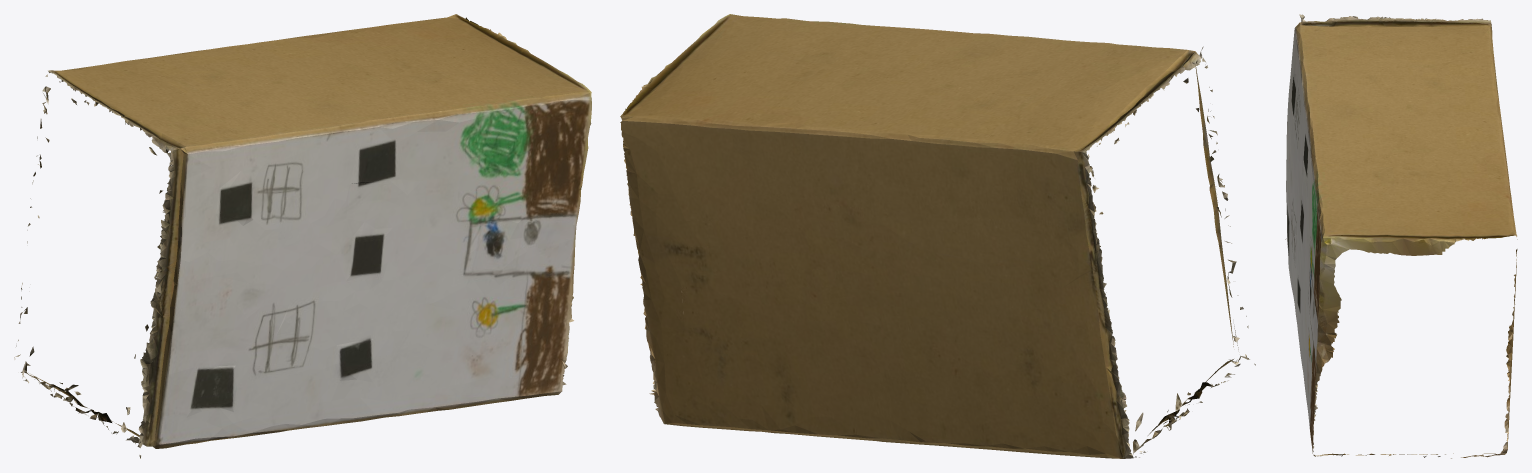
The model's file is m6_5K_1024tex.glb.
3 views of the same model, side by side, from view 1: azimuth 30°, elevation 25°; view 2: azimuth 150°, elevation 25°; view 3: azimuth 270°, elevation 25° (orthographic). The views are drawn at different scales.
Bounding box in the file's own units: 1.89 × 1.34 × 0.9741.
1 material, 1 textured.
